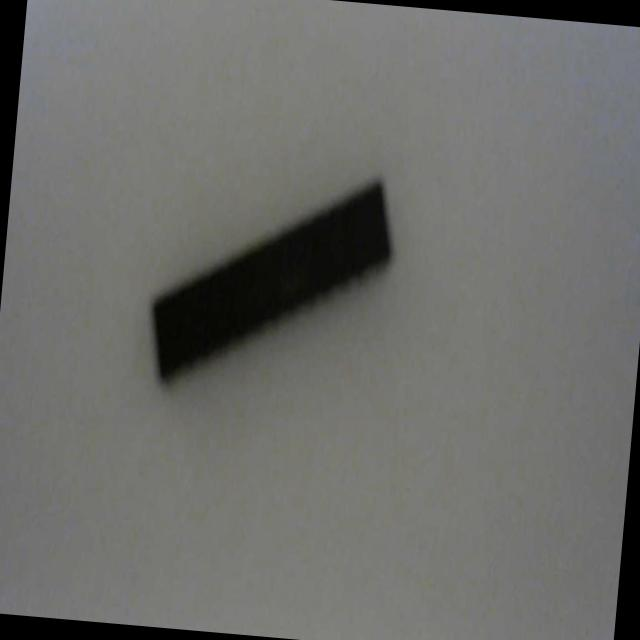atmega: (142, 154, 400, 406)
